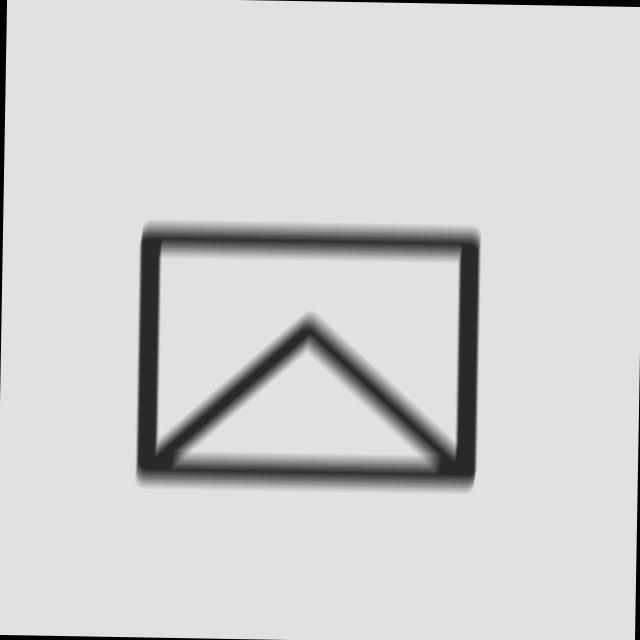letter: (133, 213, 487, 497)
